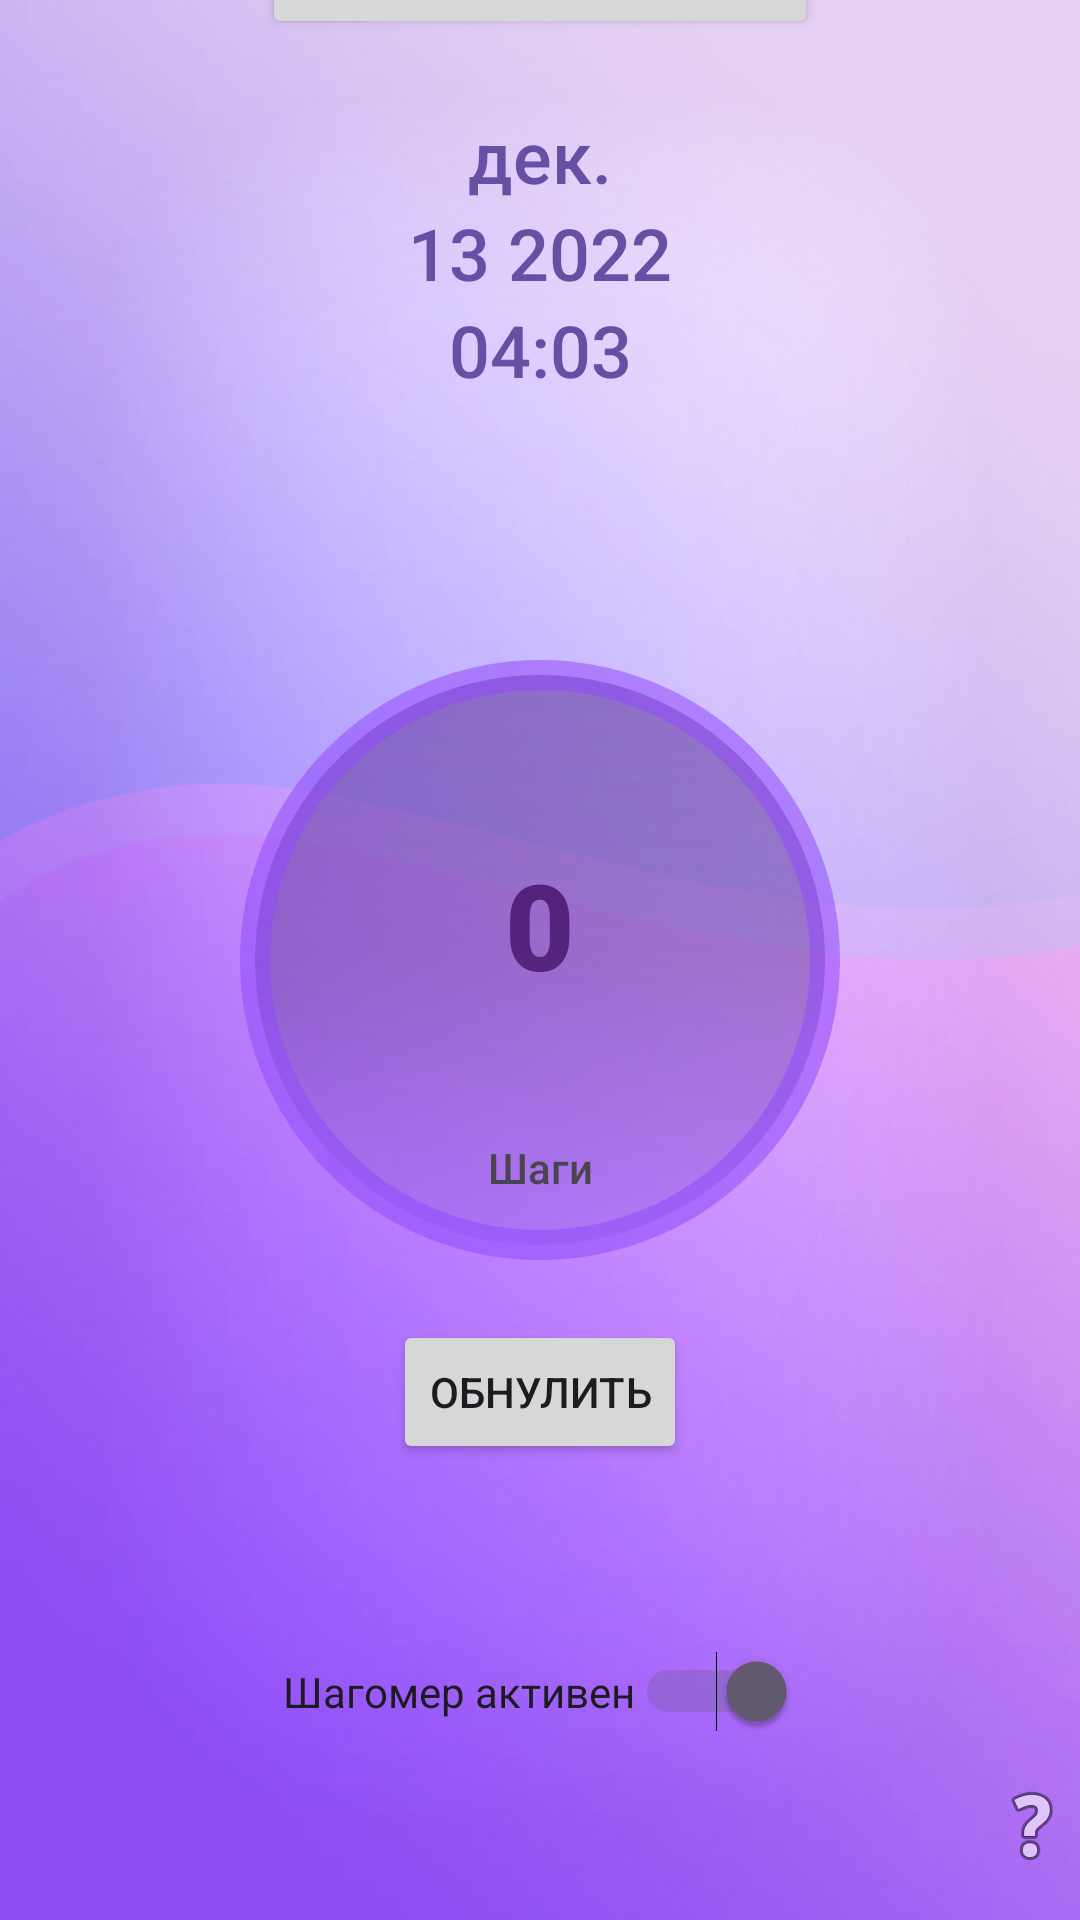

Named icons in this screenshot (1080 x 1920) and their centers, point (x, y):
help: point (1032, 1826)
